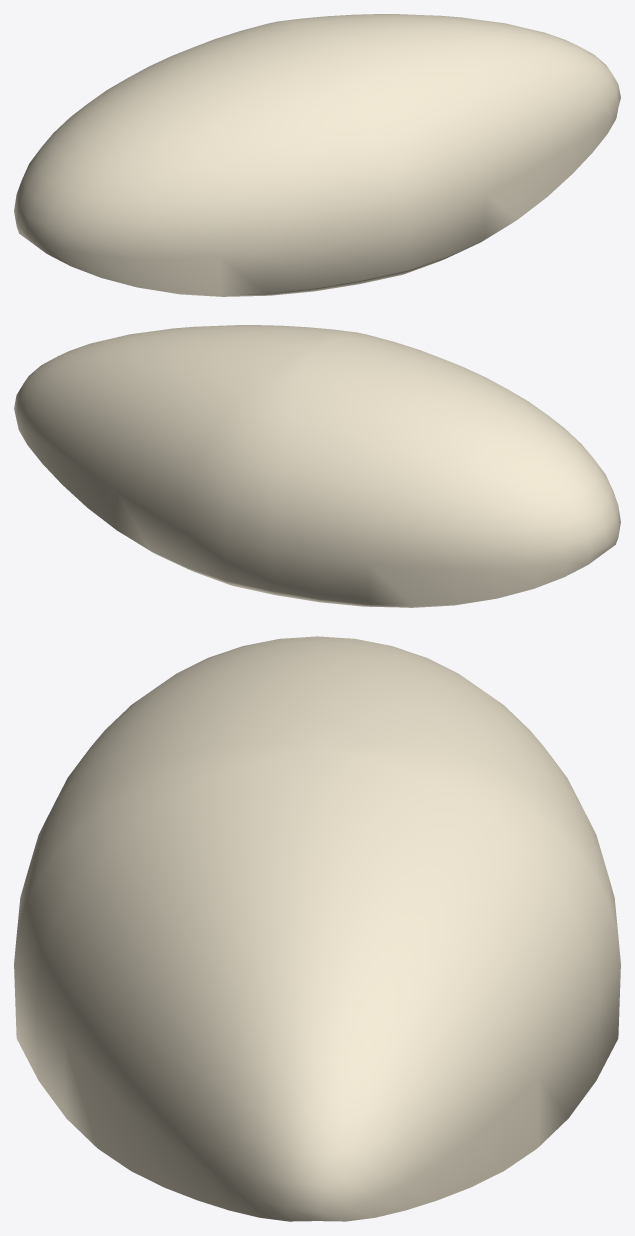
File: cowrie_a6.glb
3 renders of one model, top to bottom at view 1: azimuth 30°, elevation 25°; view 2: azimuth 150°, elevation 25°; view 3: azimuth 270°, elevation 25°, orthographic. The views are drawn at different scales.
Visible parts, largest first — view 1: cowrie_a6; view 2: cowrie_a6; view 3: cowrie_a6.
Boxes of the visible parts, x1,y1,x2,y2 form: cowrie_a6: [14, 14, 620, 296]; cowrie_a6: [14, 325, 620, 607]; cowrie_a6: [14, 636, 620, 1221].
Size of the model in its own units: 0.0239 by 0.0073 by 0.0124.
